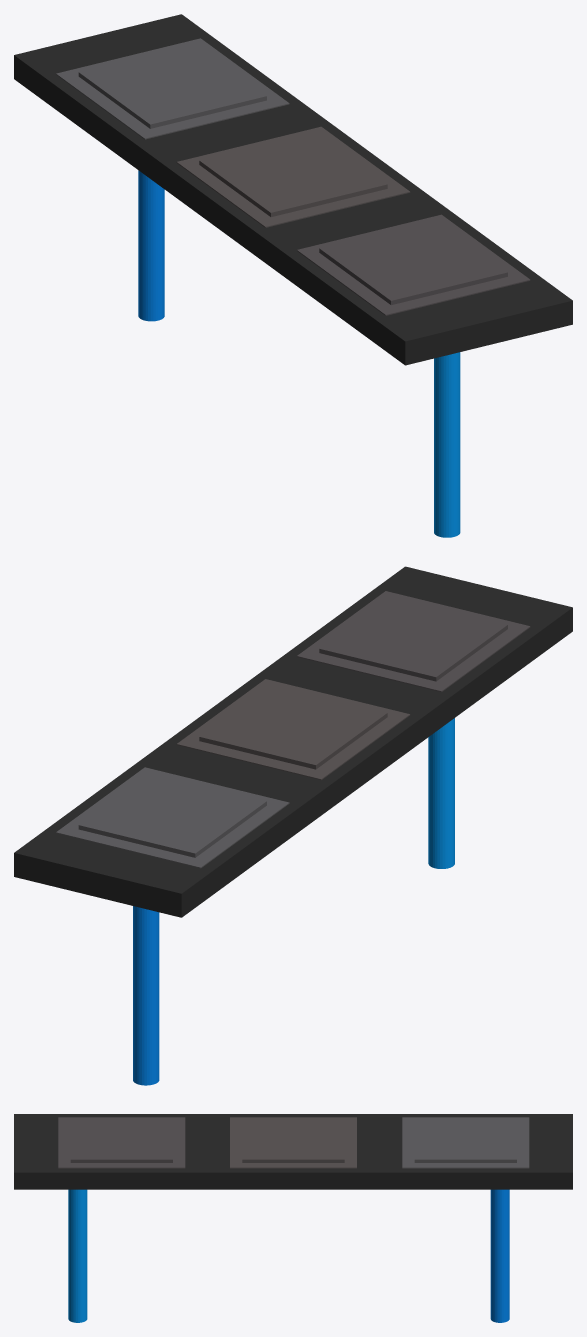
File: rebus-table.gltf
3 views of the same model, one above another, from view 1: azimuth 30°, elevation 25°; view 2: azimuth 150°, elevation 25°; view 3: azimuth 270°, elevation 25° (orthographic). The views are drawn at different scales.
Parts seen in each view (by area): view 1: Cube, Cube.001, Cube.002, Cube.003, Cylinder.001, Cylinder; view 2: Cube, Cube.002, Cube.003, Cube.001, Cylinder, Cylinder.001; view 3: Cube, Cube.001, Cube.003, Cube.002, Cylinder.001, Cylinder.
Boxes of the visible parts, box(x1,y1,x2,y2) form: Cube: box(14, 14, 572, 365); Cube.001: box(56, 38, 289, 139); Cube.002: box(176, 126, 410, 227); Cube.003: box(297, 214, 530, 315); Cylinder.001: box(434, 352, 460, 537); Cylinder: box(138, 170, 164, 321); Cube: box(14, 566, 572, 917); Cube.002: box(176, 679, 410, 780); Cube.003: box(297, 591, 530, 692); Cube.001: box(56, 767, 289, 868); Cylinder: box(133, 906, 159, 1085); Cylinder.001: box(428, 718, 454, 868); Cube: box(14, 1114, 572, 1189); Cube.001: box(402, 1117, 529, 1168); Cube.003: box(58, 1117, 185, 1168); Cube.002: box(230, 1117, 356, 1168); Cylinder.001: box(68, 1189, 87, 1322); Cylinder: box(490, 1189, 509, 1322).
Size of the model in its own units: 1.46 by 2.08 by 5.9.
